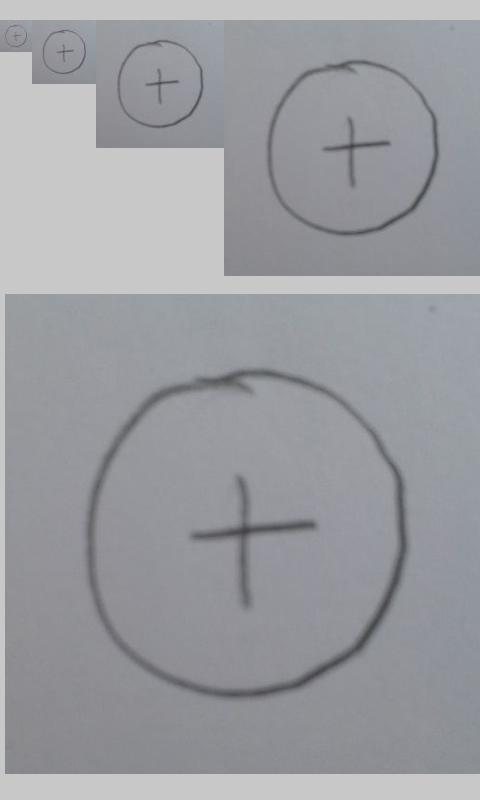button: (82, 366, 412, 701), (265, 57, 440, 239), (116, 39, 204, 129), (41, 29, 87, 75), (4, 24, 27, 47)
